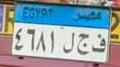1: (48, 29, 56, 54)
4: (14, 29, 24, 51)
6: (25, 27, 35, 51)
8: (36, 30, 46, 54)
faa: (92, 33, 106, 55)
jeem: (76, 31, 90, 57)
laam: (63, 30, 75, 55)
